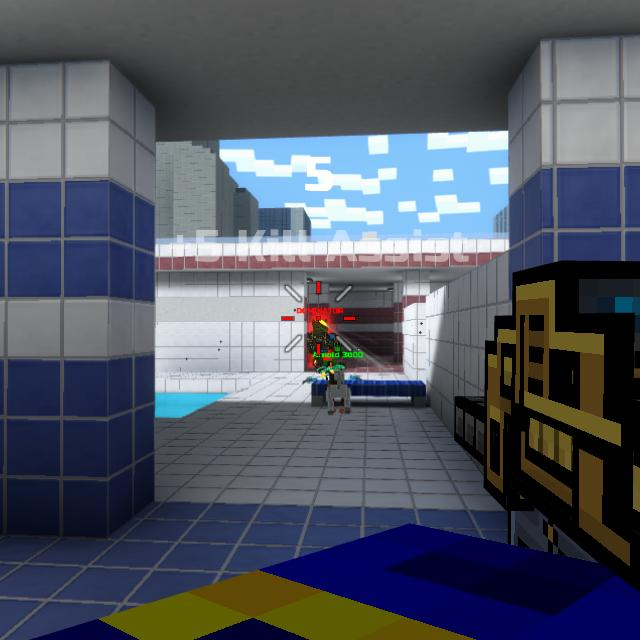Enemy: (307, 318, 336, 369)
